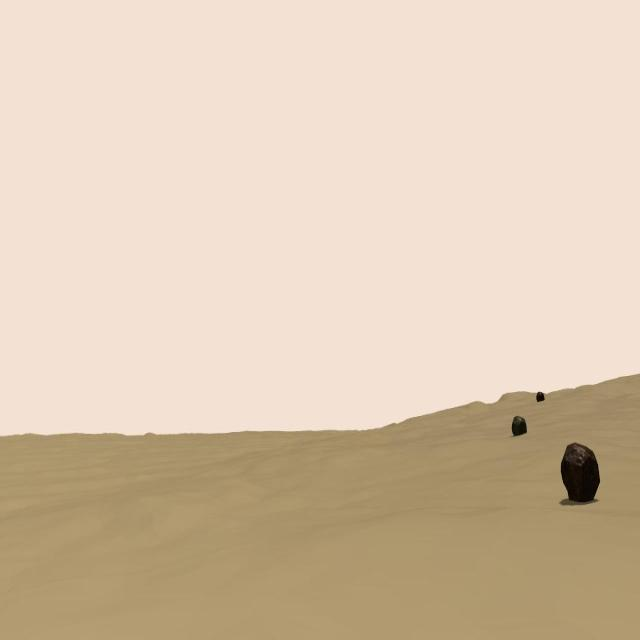rock: (561, 442, 600, 503), (512, 416, 526, 438), (536, 391, 545, 404)
